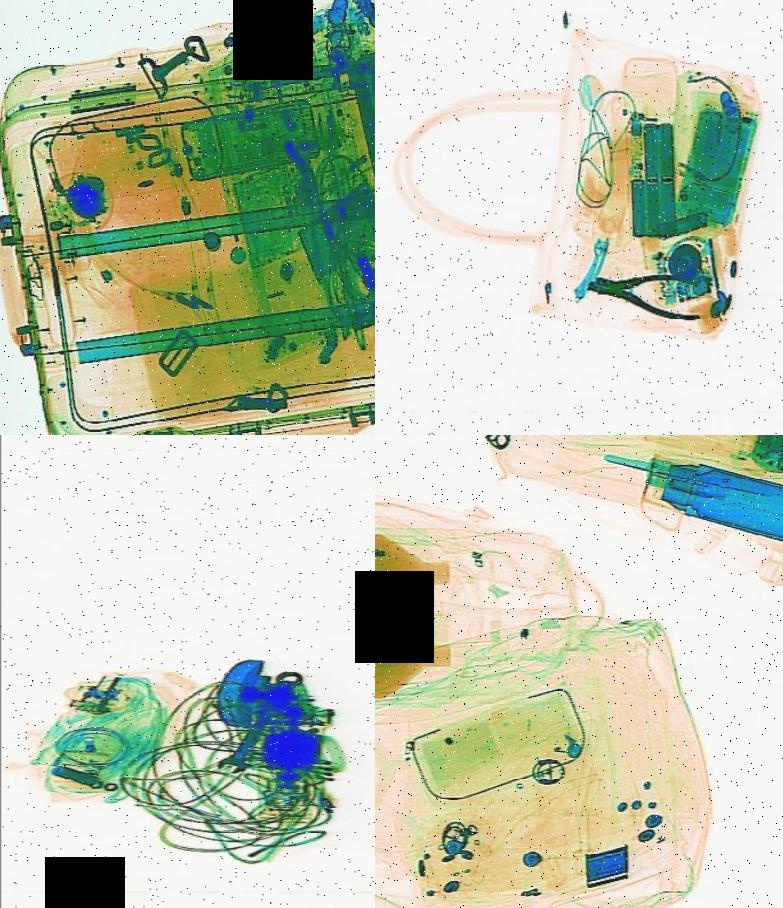Pliers: (581, 258, 706, 322)
Wrench: (214, 660, 304, 783)
